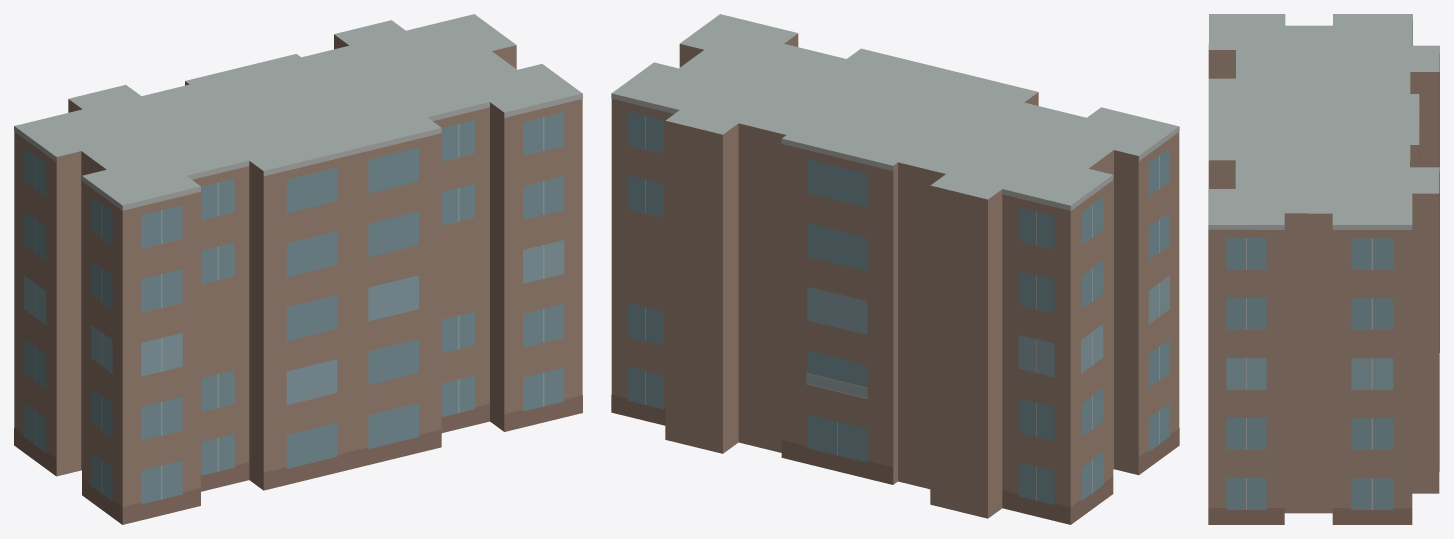
File: survey-upis-32638504.glb
The picture shows the model from 3 angles, left to right: view 1: azimuth 30°, elevation 25°; view 2: azimuth 150°, elevation 25°; view 3: azimuth 270°, elevation 25°; orthographic projection. The views are drawn at different scales.
Visible parts, largest first — view 1: survey-upis-32638504.tmp; view 2: survey-upis-32638504.tmp; view 3: survey-upis-32638504.tmp.
Part boxes in pixels (x1,y1,x2,y2): survey-upis-32638504.tmp: (14,14,582,524); survey-upis-32638504.tmp: (611,14,1179,524); survey-upis-32638504.tmp: (1208,14,1439,524).
Size of the model in its own units: 22.18 by 14.7 by 10.29.
